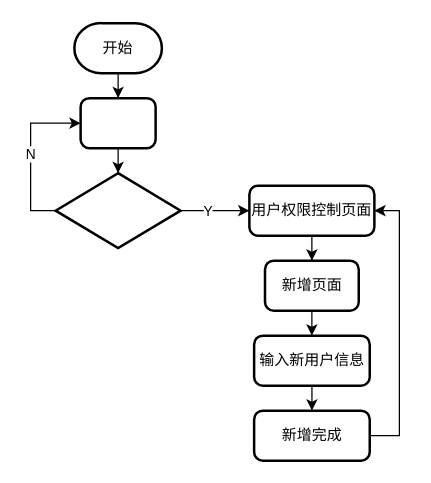
This 431x483 diagram has some shape labels left out. Here are the shapes that lost their labels. From the top down, the centre of each, then its label:
At [117,122]: "登录".
At [117,210]: "是否为企业 管理员？".
